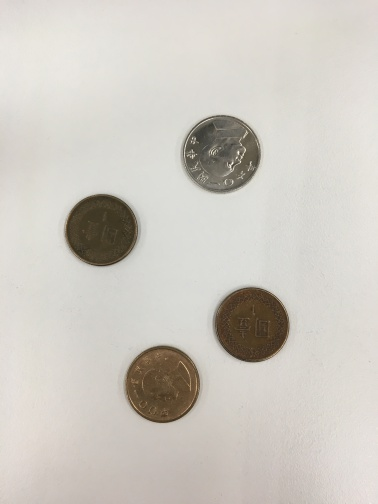1 dollar: (54, 181, 162, 283), (116, 335, 215, 440), (205, 284, 296, 368)
5 dollar: (166, 107, 274, 202)
